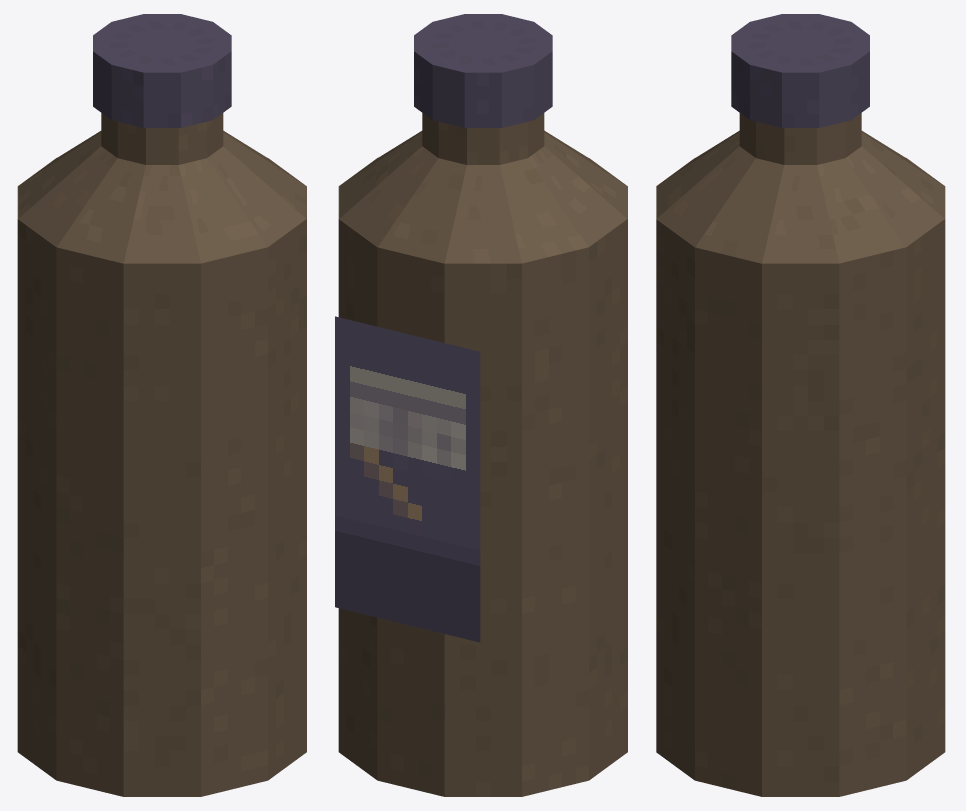
The model's file is soysauce.glb.
The picture shows the model from 3 angles, left to right: view 1: azimuth 30°, elevation 25°; view 2: azimuth 150°, elevation 25°; view 3: azimuth 270°, elevation 25°; orthographic projection.
Parts seen in each view (by area): view 1: block_bottle body, block_shoulder, block_ribbed closure, block_neck; view 2: block_bottle body, block_label, block_shoulder, block_ribbed closure, block_neck; view 3: block_bottle body, block_shoulder, block_ribbed closure, block_neck.
Boxes of the visible parts, left/top/right/bottom form: block_bottle body: left=17, top=158, right=306, bottom=796; block_shoulder: left=18, top=130, right=306, bottom=263; block_ribbed closure: left=93, top=14, right=231, bottom=127; block_neck: left=101, top=113, right=223, bottom=164; block_bottle body: left=338, top=158, right=627, bottom=796; block_label: left=335, top=316, right=480, bottom=642; block_shoulder: left=339, top=130, right=627, bottom=263; block_ribbed closure: left=414, top=14, right=552, bottom=127; block_neck: left=422, top=113, right=544, bottom=164; block_bottle body: left=656, top=158, right=945, bottom=796; block_shoulder: left=656, top=130, right=944, bottom=263; block_ribbed closure: left=731, top=14, right=869, bottom=127; block_neck: left=739, top=113, right=861, bottom=164.
Size of the model in its own units: 0.0541 by 0.143 by 0.0553.
Materials: 1 (1 with a texture image).
